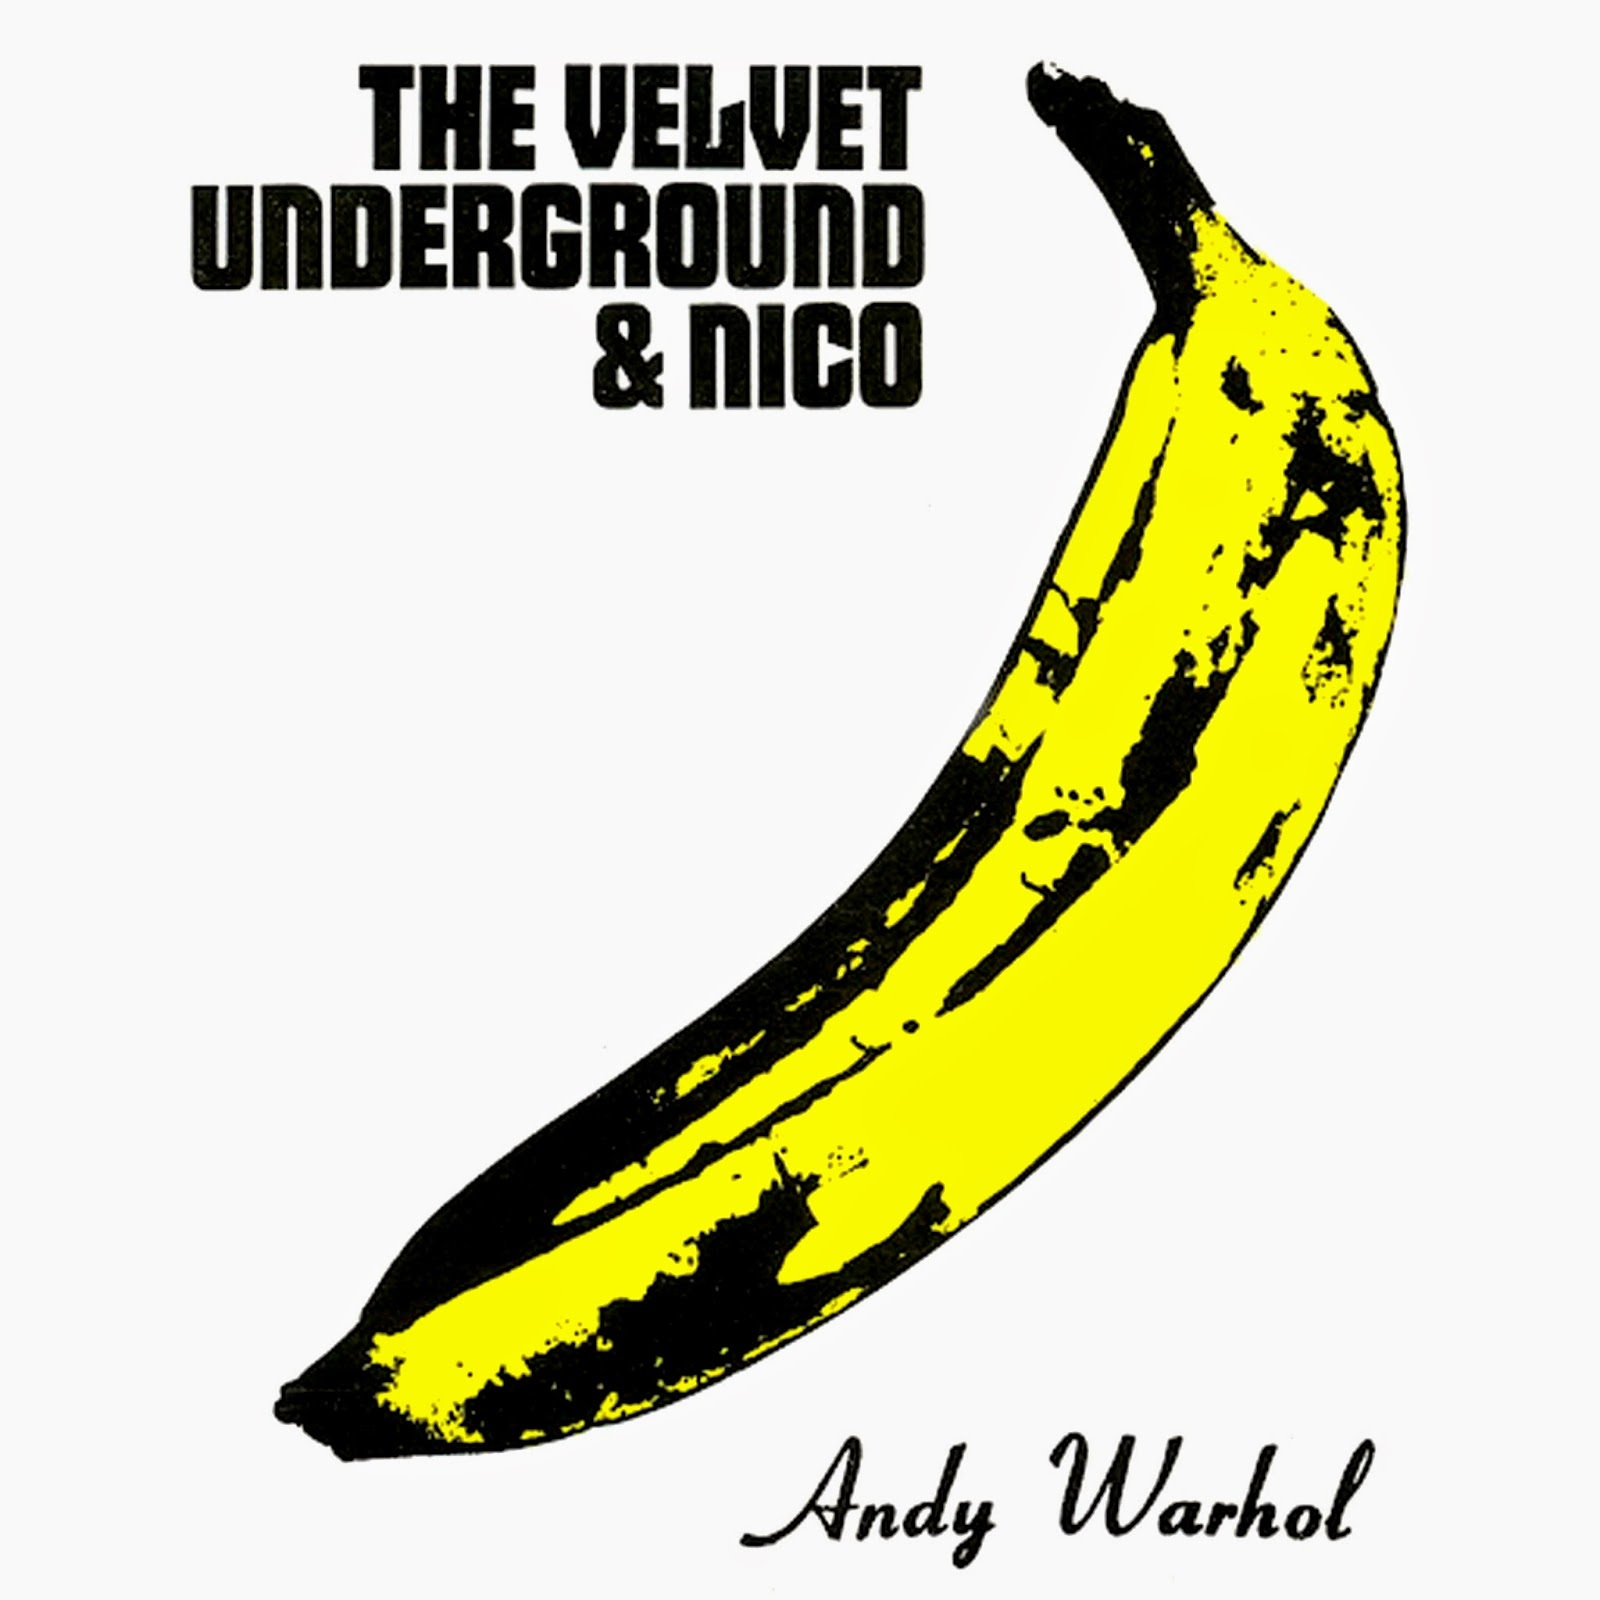banana: (280, 229, 1407, 1453)
